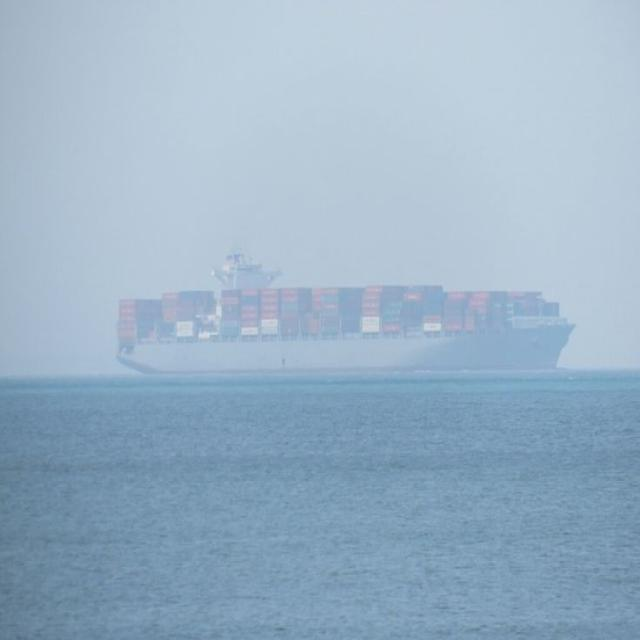cargoship: (116, 247, 581, 377)
